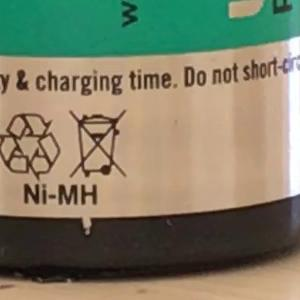NI-MH: (14, 174, 107, 215)
